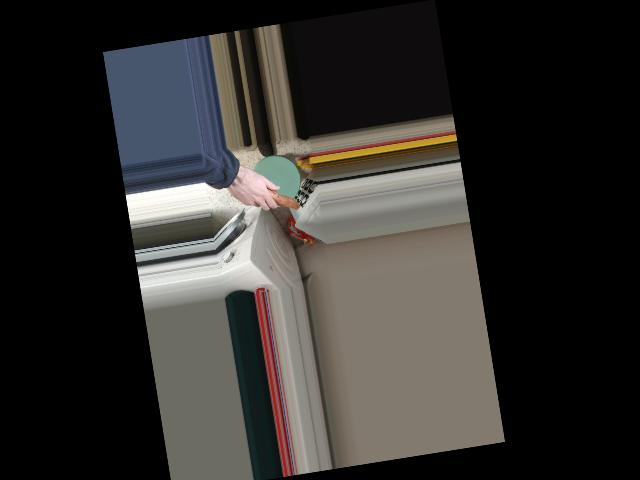sweet_potato: (242, 171, 298, 217)
